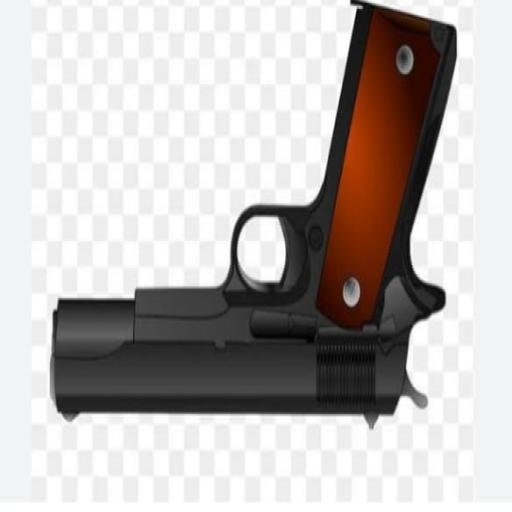Gun: (51, 2, 455, 425)
